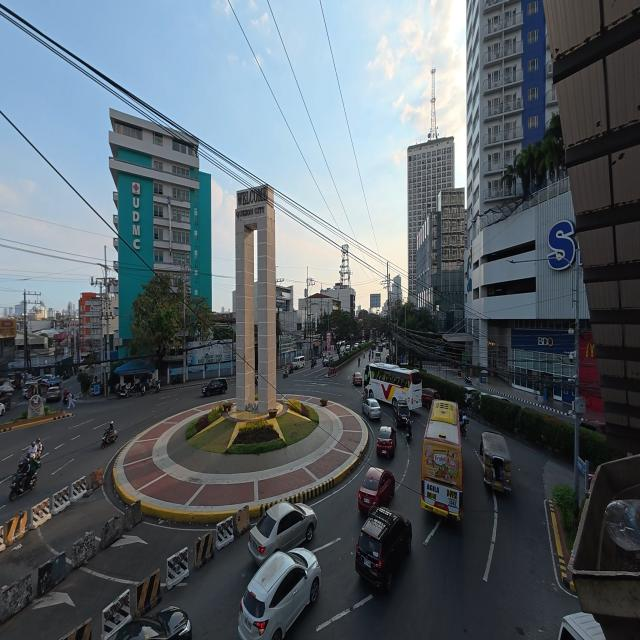Jeepneys: (481, 432, 514, 498)
bus: (420, 400, 464, 525), (364, 362, 424, 409)
car: (241, 543, 321, 638), (355, 511, 412, 595), (251, 496, 319, 560), (356, 466, 396, 516), (377, 424, 398, 457), (201, 378, 229, 398), (361, 400, 382, 422), (44, 384, 64, 402), (353, 371, 367, 388), (0, 382, 14, 398)
motorcycle: (12, 452, 40, 498), (99, 422, 116, 447)
